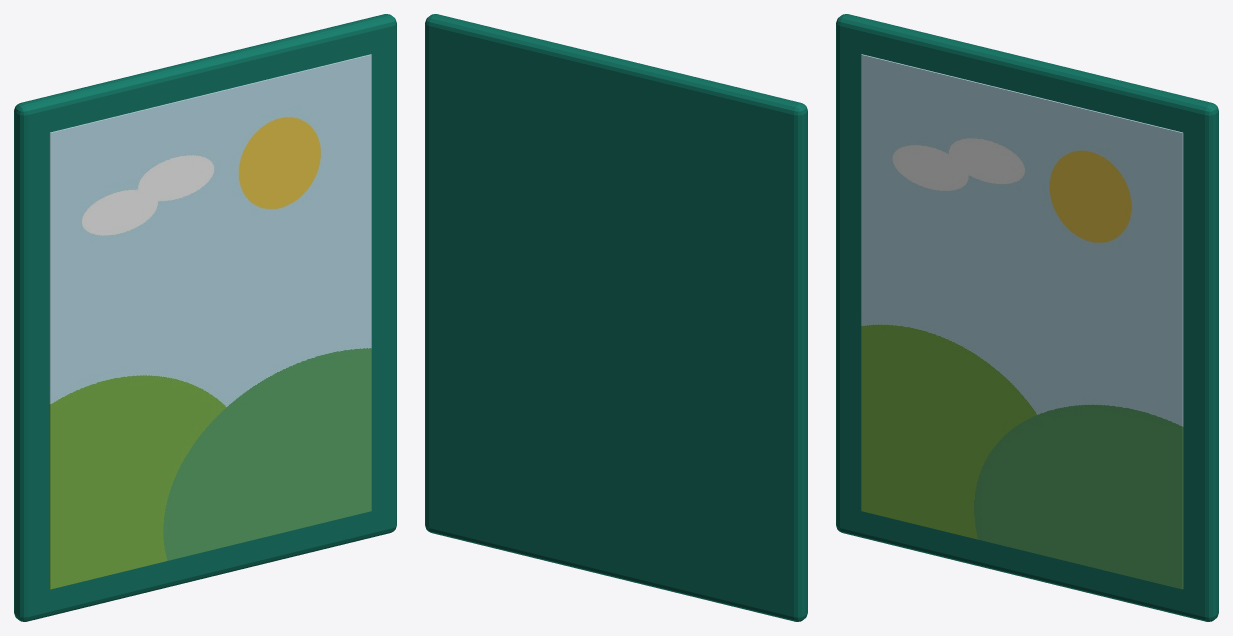
Rendered from poster_a.glb.
The picture shows the model from 3 angles, left to right: view 1: azimuth 30°, elevation 25°; view 2: azimuth 150°, elevation 25°; view 3: azimuth 330°, elevation 25°; orthographic projection.
Visible parts, largest first — view 1: pic, box; view 2: box; view 3: pic, box.
Boxes of the visible parts, left/top/right/bottom form: pic: left=49, top=54, right=371, bottom=589; box: left=14, top=14, right=396, bottom=621; box: left=425, top=14, right=807, bottom=621; pic: left=861, top=54, right=1183, bottom=589; box: left=836, top=14, right=1218, bottom=621.
Bounding box in the file's own units: 0.66 × 0.86 × 0.032.
2 materials, 1 textured.
